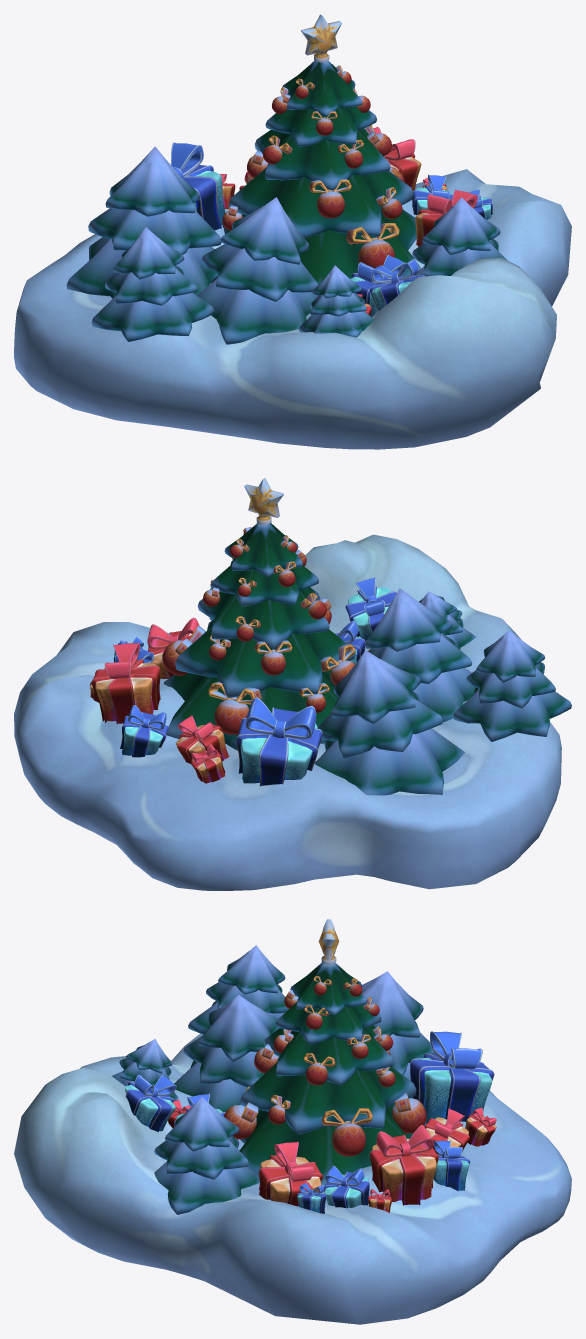
Rendered from stylised_christmas_tree.glb.
3 views of the same model, one above another, from view 1: azimuth 30°, elevation 25°; view 2: azimuth 150°, elevation 25°; view 3: azimuth 270°, elevation 25° (orthographic). The views are drawn at different scales.
Visible parts, largest first — view 1: Object_4, Object_6, Object_3, Object_2, Object_5, Object_8, Object_7; view 2: Object_4, Object_6, Object_3, Object_5, Object_8, Object_2, Object_7; view 3: Object_4, Object_6, Object_3, Object_5, Object_8, Object_2, Object_7.
Boxes of the visible parts, box(x1,y1,x2,y2) form: Object_4: box(14, 169, 571, 449); Object_6: box(66, 146, 507, 344); Object_3: box(217, 60, 421, 285); Object_2: box(222, 65, 405, 268); Object_5: box(171, 142, 492, 316); Object_8: box(219, 126, 477, 315); Object_7: box(301, 14, 341, 62); Object_4: box(14, 534, 561, 890); Object_6: box(209, 588, 571, 795); Object_3: box(163, 523, 355, 750); Object_5: box(113, 577, 396, 786); Object_8: box(90, 617, 370, 783); Object_2: box(162, 527, 355, 734); Object_7: box(244, 478, 283, 524); Object_4: box(14, 1033, 571, 1324); Object_6: box(112, 945, 435, 1214); Object_3: box(239, 962, 425, 1185); Object_5: box(125, 1031, 494, 1213); Object_8: box(168, 1100, 496, 1212); Object_2: box(223, 976, 426, 1156); Object_7: box(318, 919, 339, 964).
Size of the model in its own units: 6 by 3.6 by 5.94.
Materials: 7 (7 with a texture image).
